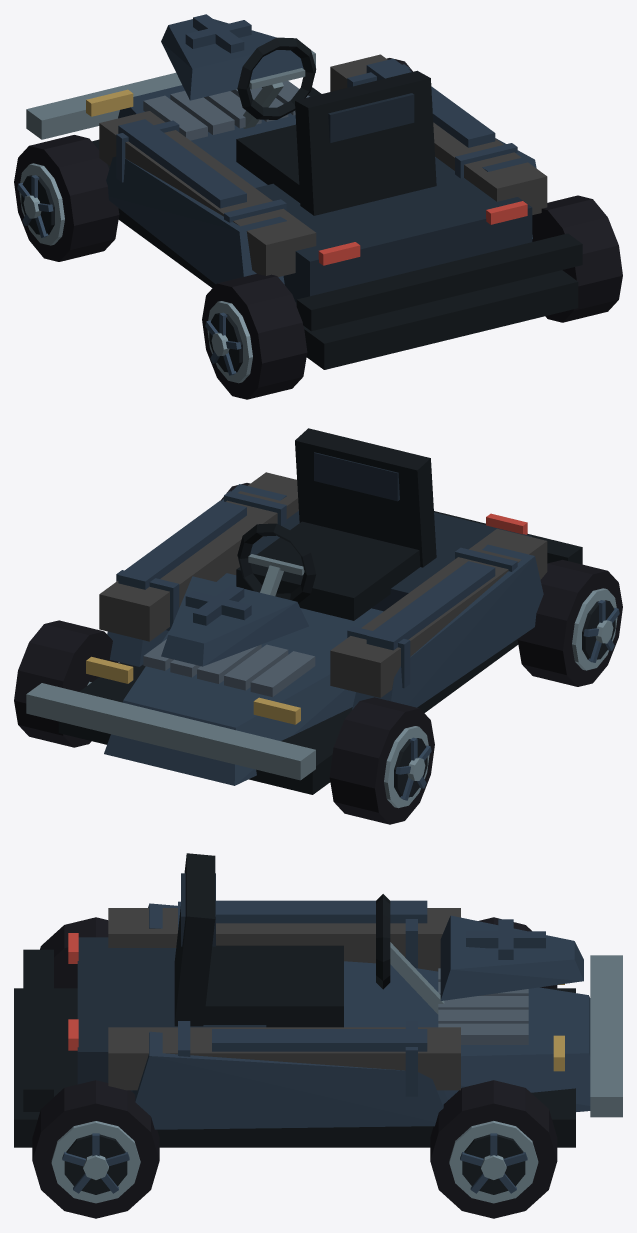
Rendered from kart.glb.
3 renders of one model, top to bottom at view 1: azimuth 30°, elevation 25°; view 2: azimuth 150°, elevation 25°; view 3: azimuth 270°, elevation 25°, orthographic. The views are drawn at different scales.
Parts seen in each view (by area): view 1: chassis, wheel-rear-left, wheel-front-left, wheel-rear-right; view 2: chassis, wheel-front-left, wheel-rear-left, wheel-front-right; view 3: chassis, wheel-front-right, wheel-rear-right, wheel-rear-left.
Part boxes in pixels (x1=…): chassis: x1=26, y1=14, x2=582, y2=369; wheel-rear-left: x1=202, y1=274, x2=307, y2=399; wheel-front-left: x1=14, y1=135, x2=119, y2=261; wheel-rear-right: x1=532, y1=195, x2=622, y2=322; chassis: x1=26, y1=428, x2=582, y2=794; wheel-front-left: x1=329, y1=697, x2=434, y2=824; wheel-rear-left: x1=517, y1=559, x2=622, y2=686; wheel-front-right: x1=14, y1=620, x2=118, y2=747; chassis: x1=14, y1=853, x2=622, y2=1147; wheel-front-right: x1=430, y1=1080, x2=557, y2=1218; wheel-rear-right: x1=32, y1=1080, x2=159, y2=1218; wheel-rear-left: x1=40, y1=917, x2=108, y2=988.
Size of the model in its own units: 2.32 by 1.3 by 2.97.
